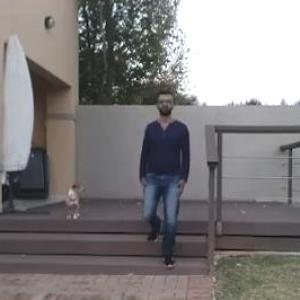follow: (146, 87, 190, 266)
